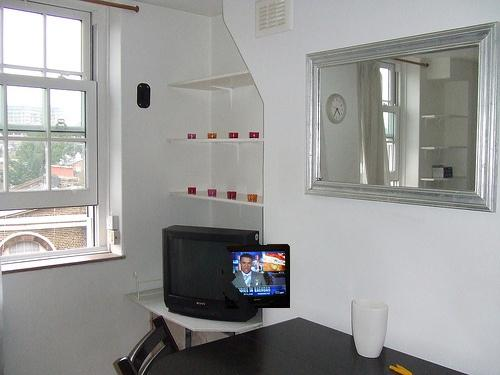tampered: (223, 245, 290, 309)
